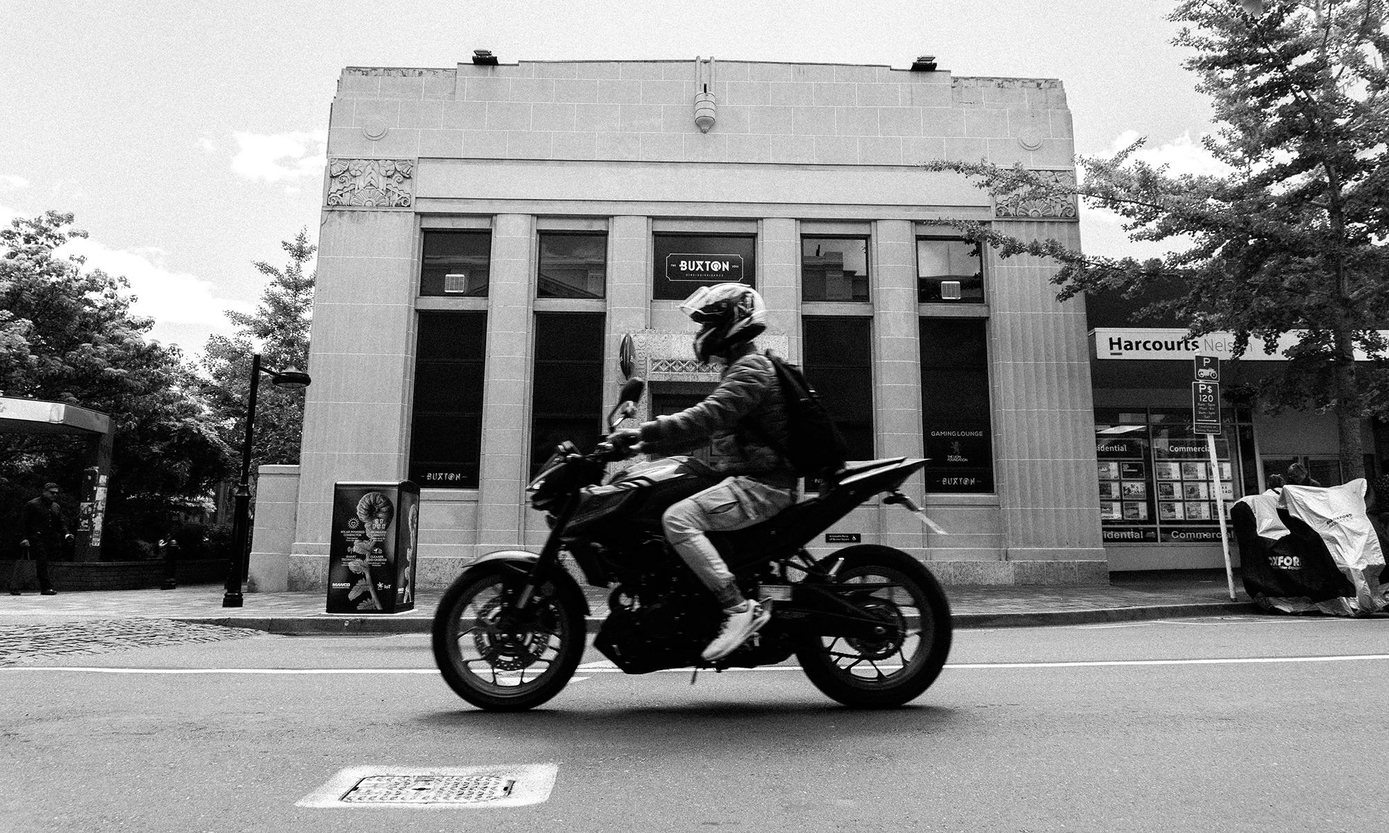helmet: (678, 282, 768, 366)
